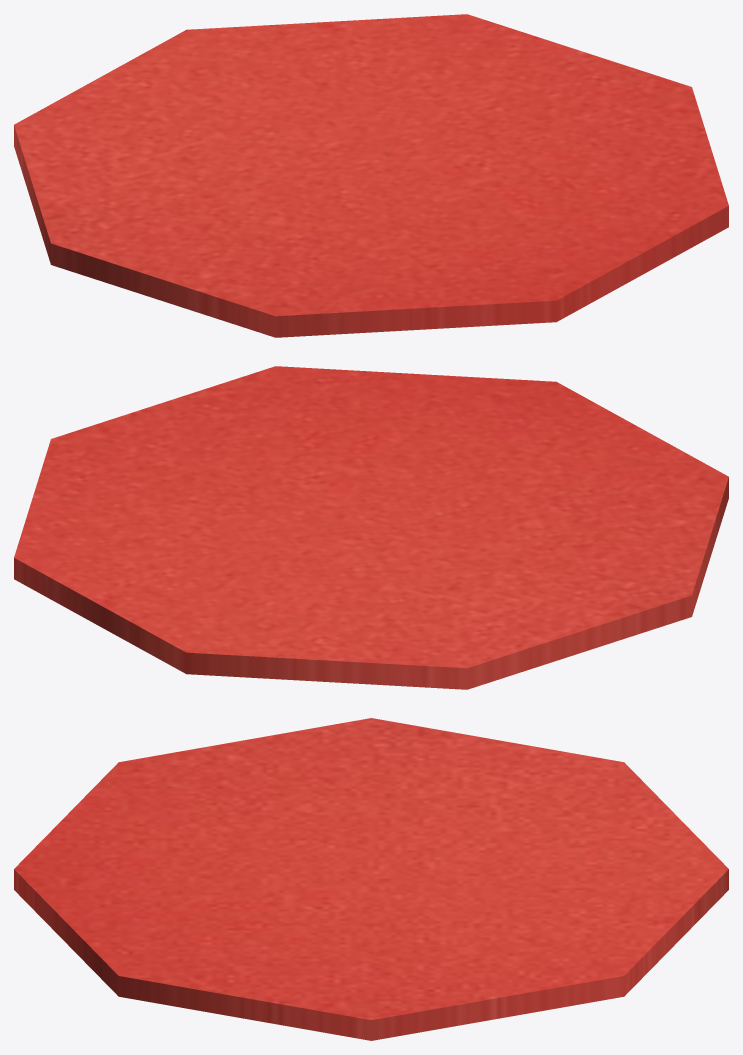
File: pad.FBX
3 renders of one model, top to bottom at view 1: azimuth 30°, elevation 25°; view 2: azimuth 150°, elevation 25°; view 3: azimuth 270°, elevation 25°, orthographic. The views are drawn at different scales.
Parts seen in each view (by area): view 1: Cylinder001; view 2: Cylinder001; view 3: Cylinder001.
Boxes of the visible parts, bbox=[...] form: Cylinder001: bbox=[14, 14, 728, 337]; Cylinder001: bbox=[14, 366, 728, 689]; Cylinder001: bbox=[14, 718, 728, 1040].
Size of the model in its own units: 127 by 4.06 by 127.
Materials: 1 (1 with a texture image).
